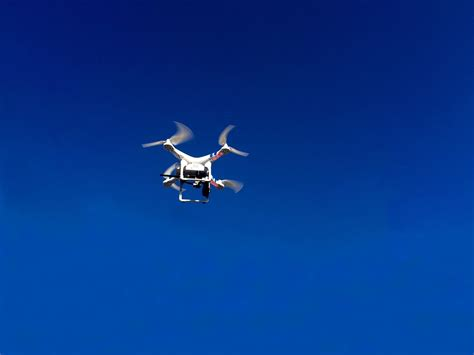drone: (143, 121, 252, 205)
